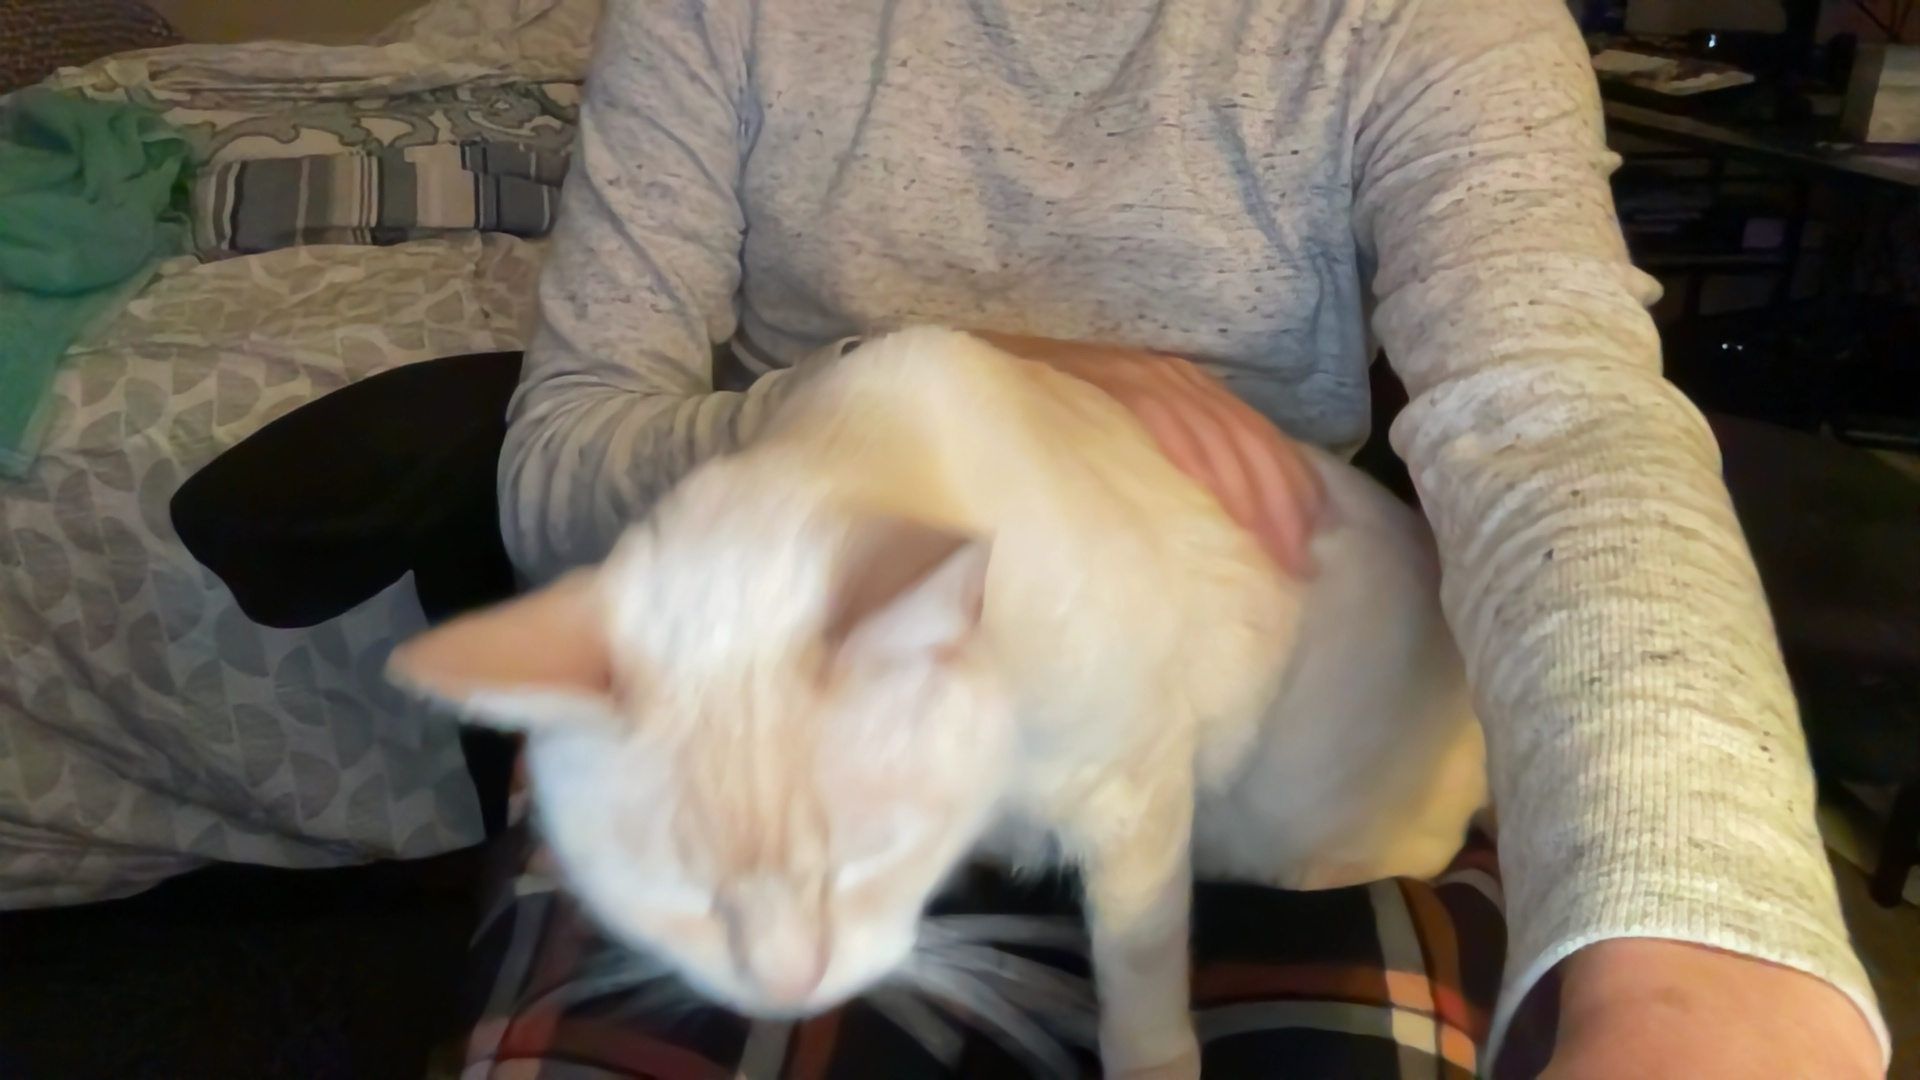cat: (415, 295, 1503, 1064)
